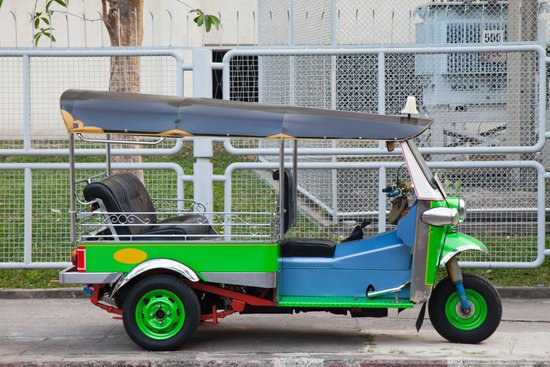threewheel: (59, 88, 502, 352)
